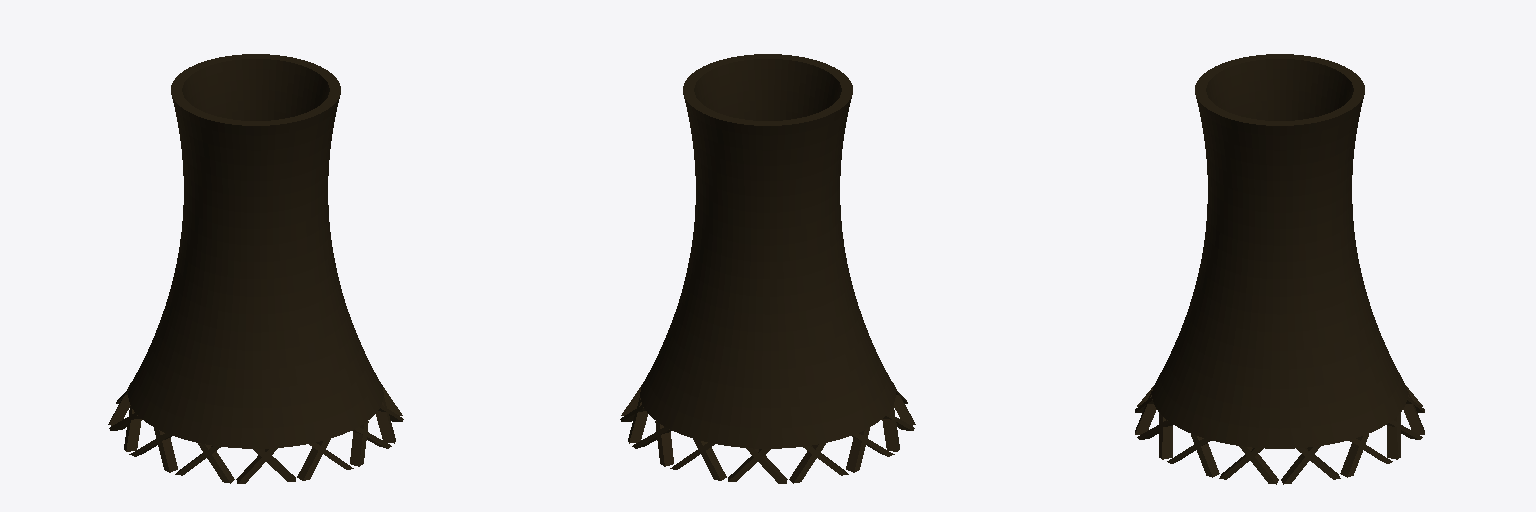
Rendered from tour_de_refroidissement.obj.
3 renders of one model, left to right at view 1: azimuth 30°, elevation 25°; view 2: azimuth 150°, elevation 25°; view 3: azimuth 270°, elevation 25°, orthographic.
Parts seen in each view (by area): view 1: tour_de_refroidissement_TourDeRefroidissement; view 2: tour_de_refroidissement_TourDeRefroidissement; view 3: tour_de_refroidissement_TourDeRefroidissement.
Part boxes in pixels (left/top/right/bottom): tour_de_refroidissement_TourDeRefroidissement: left=108, top=54, right=403, bottom=483; tour_de_refroidissement_TourDeRefroidissement: left=620, top=54, right=915, bottom=483; tour_de_refroidissement_TourDeRefroidissement: left=1135, top=54, right=1424, bottom=484.
Size of the model in its own units: 132 by 163 by 129.